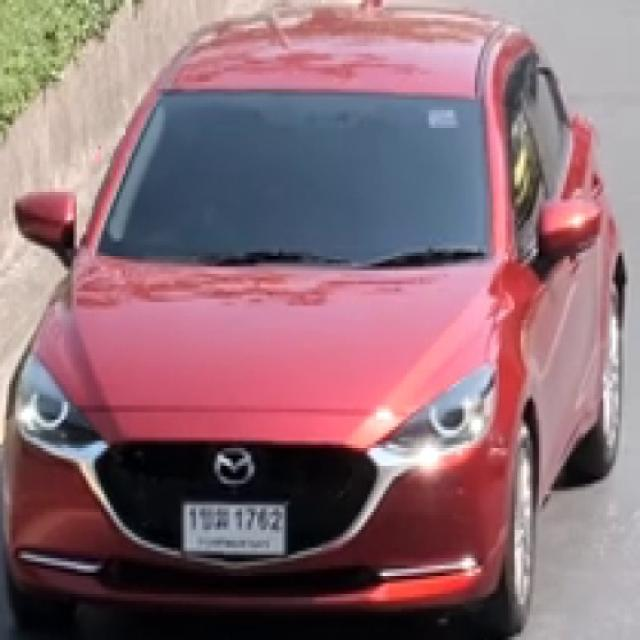plate: (185, 502, 286, 556)
